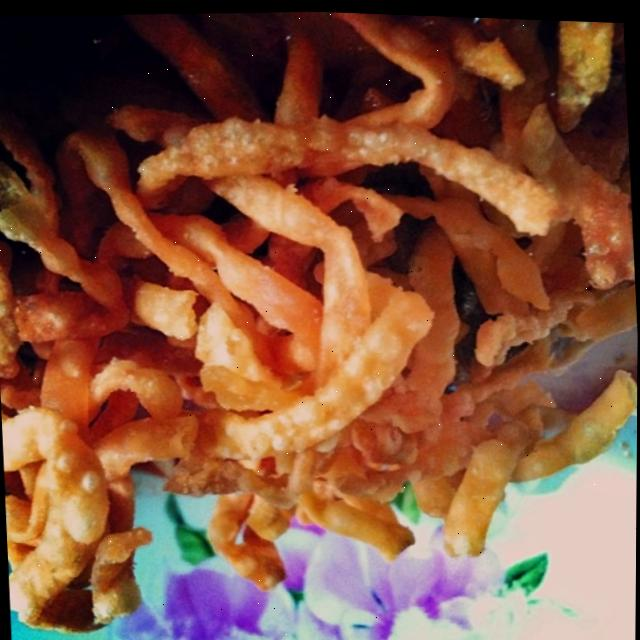面条主食: (2, 6, 640, 640)
